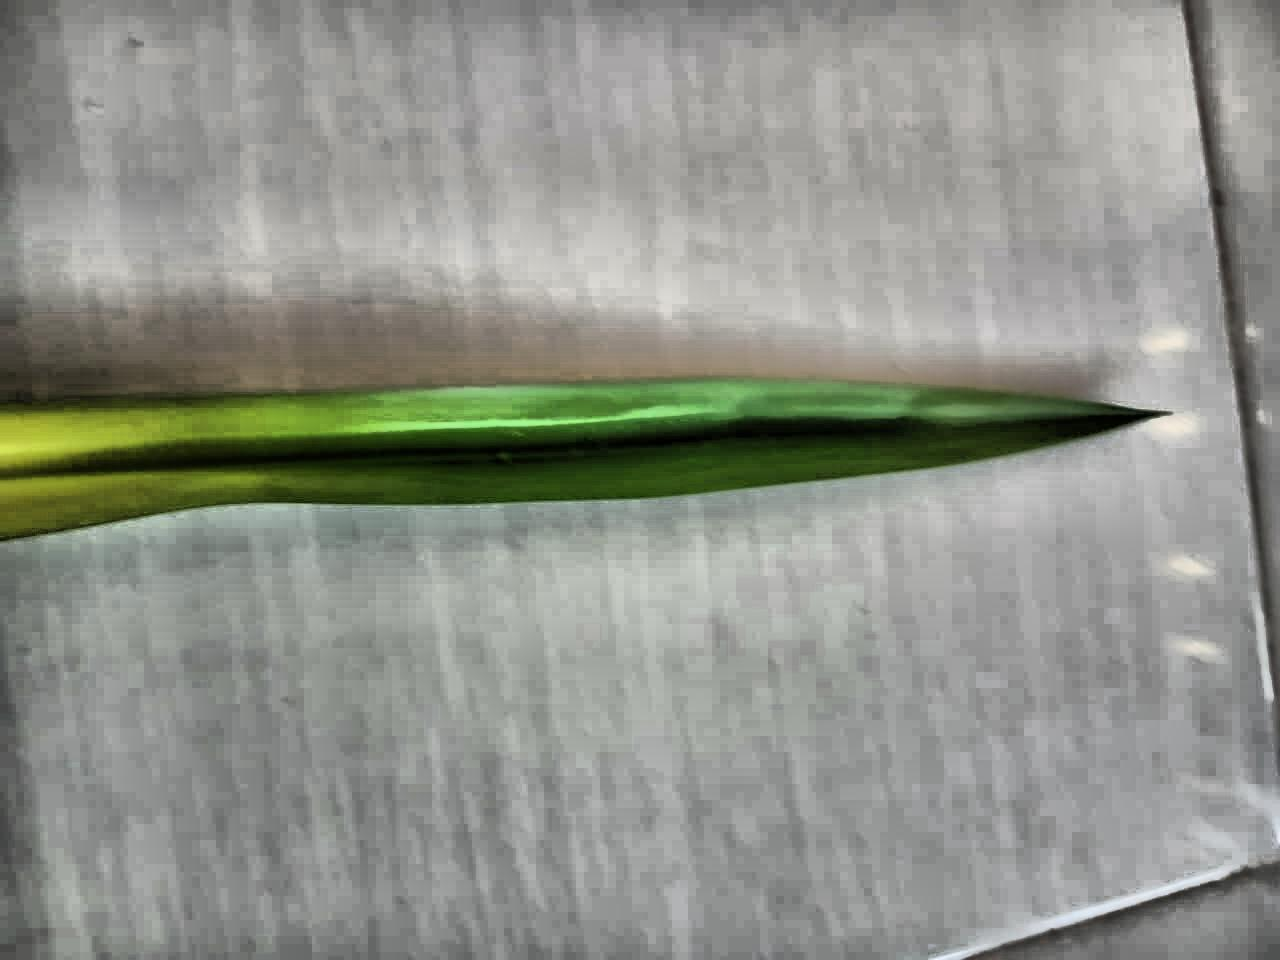daun pandan: (0, 379, 1159, 541)
